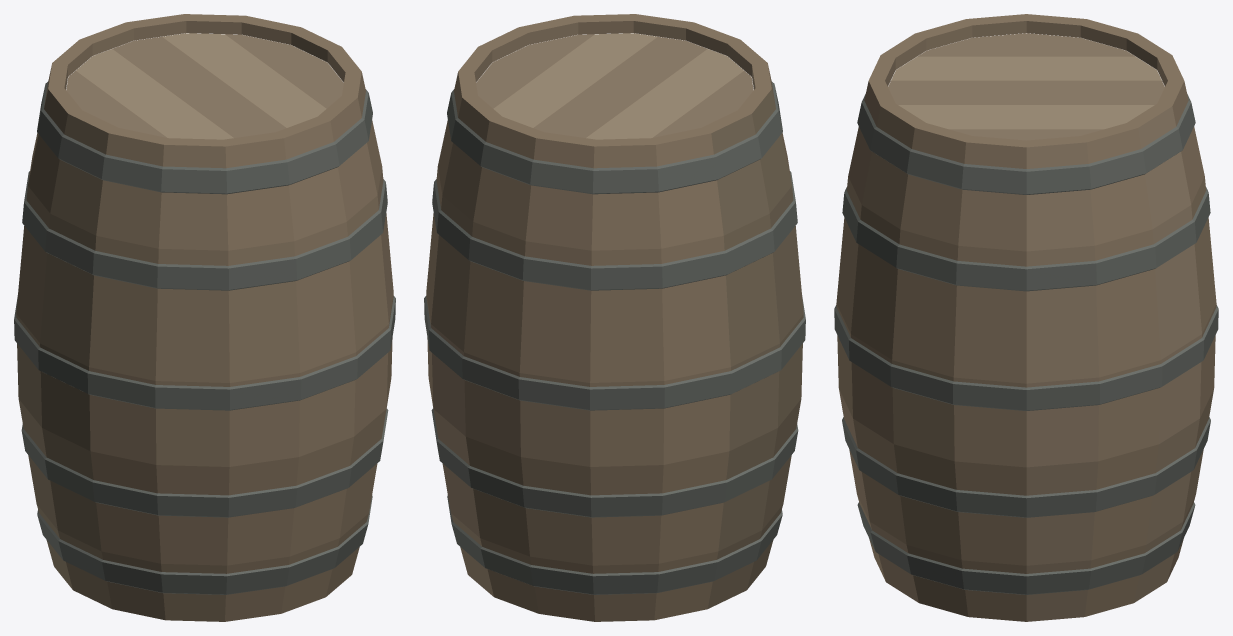
Rendered from env_barrel_v01_five_hoops.glb.
The picture shows the model from 3 angles, left to right: view 1: azimuth 30°, elevation 25°; view 2: azimuth 150°, elevation 25°; view 3: azimuth 270°, elevation 25°; orthographic projection.
Visible parts, largest first — view 1: material_0, material_3, material_2, material_5, material_4; view 2: material_0, material_3, material_2, material_5, material_4; view 3: material_0, material_5, material_3, material_4.
Part boxes in pixels (x1=…): material_0: x1=28, y1=14, x2=393, y2=621; material_3: x1=14, y1=81, x2=395, y2=594; material_2: x1=16, y1=89, x2=111, y2=608; material_5: x1=66, y1=34, x2=343, y2=137; material_4: x1=76, y1=33, x2=326, y2=139; material_0: x1=426, y1=14, x2=791, y2=621; material_3: x1=424, y1=81, x2=805, y2=594; material_2: x1=708, y1=89, x2=803, y2=608; material_5: x1=431, y1=34, x2=753, y2=596; material_4: x1=493, y1=33, x2=743, y2=139; material_0: x1=836, y1=14, x2=1216, y2=621; material_5: x1=888, y1=33, x2=1201, y2=621; material_3: x1=834, y1=94, x2=1218, y2=594; material_4: x1=891, y1=56, x2=1161, y2=129.
Size of the model in its own units: 0.6575 by 0.9 by 0.6575.
